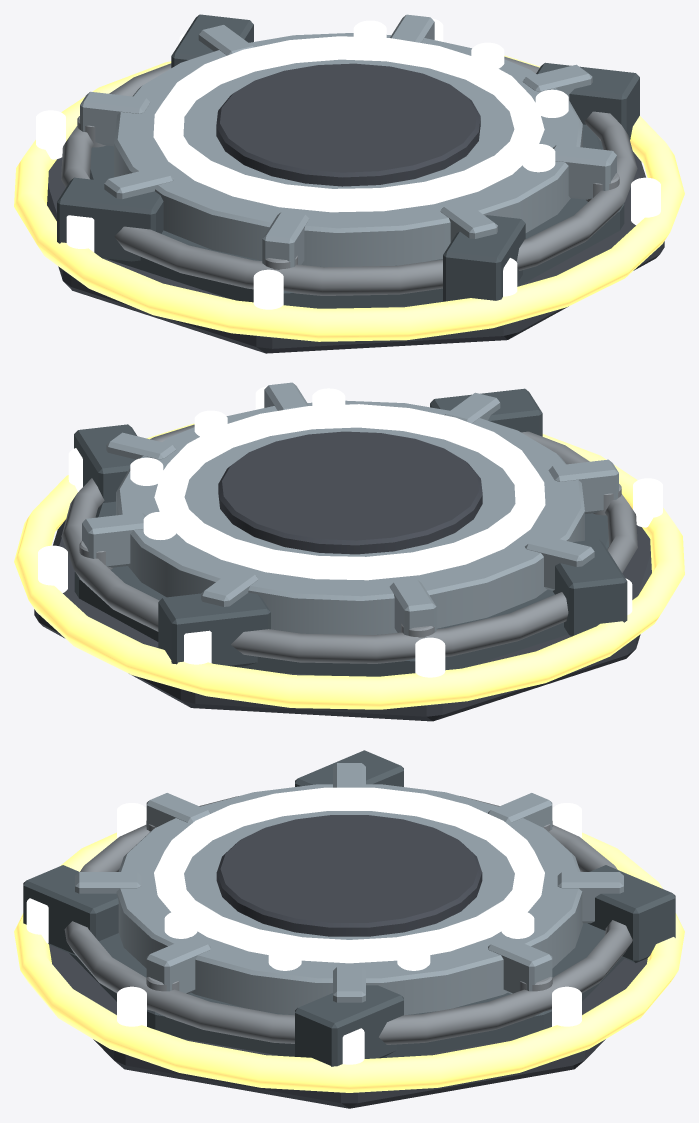
Rendered from rail_base_l4.glb.
3 renders of one model, top to bottom at view 1: azimuth 30°, elevation 25°; view 2: azimuth 150°, elevation 25°; view 3: azimuth 270°, elevation 25°, orthographic.
Parts seen in each view (by area): view 1: Cylinder.002, Torus.002, Cylinder.003, Torus.001, Torus, Cylinder, Cylinder.001, Cube.010, Cube.011, Cube.008, Cube.007, Cube.003 (+15 smaller); view 2: Cylinder.002, Torus.002, Cylinder.003, Torus.001, Torus, Cylinder, Cylinder.001, Cube.009, Cube.010, Cube.008, Cube.001, Cube.011 (+16 smaller); view 3: Cylinder.002, Torus.002, Cylinder.003, Torus.001, Torus, Cylinder, Cylinder.001, Cube.008, Cube.011, Cube.009, Cube.001, Cube.007 (+17 smaller).
Part boxes in pixels (<box>): Cylinder.002: <box>114,33,582,267</box>; Torus.002: <box>14,55,684,341</box>; Cylinder.003: <box>216,63,480,186</box>; Torus.001: <box>153,36,544,212</box>; Torus: <box>61,56,637,295</box>; Cylinder: <box>47,152,664,353</box>; Cylinder.001: <box>90,124,624,308</box>; Cube.010: <box>57,177,163,261</box>; Cube.011: <box>443,215,525,301</box>; Cube.008: <box>536,62,639,139</box>; Cube.007: <box>553,144,616,199</box>; Cube.003: <box>80,91,150,146</box>; Cylinder.002: <box>116,400,584,634</box>; Torus.002: <box>14,423,684,709</box>; Cylinder.003: <box>218,431,482,554</box>; Torus.001: <box>154,404,545,580</box>; Torus: <box>61,424,637,663</box>; Cylinder: <box>34,519,651,721</box>; Cylinder.001: <box>74,501,608,676</box>; Cube.009: <box>158,592,270,666</box>; Cube.010: <box>553,539,627,636</box>; Cube.008: <box>74,424,137,502</box>; Cube.001: <box>82,512,145,567</box>; Cube.011: <box>430,388,542,436</box>; Cylinder.002: <box>116,784,583,1015</box>; Torus.002: <box>14,832,684,1092</box>; Cylinder.003: <box>216,815,482,936</box>; Torus.001: <box>154,787,544,963</box>; Torus: <box>64,796,632,1044</box>; Cylinder: <box>49,945,647,1108</box>; Cylinder.001: <box>69,923,624,1057</box>; Cube.008: <box>295,985,403,1066</box>; Cube.011: <box>23,865,118,956</box>; Cube.009: <box>588,865,675,962</box>; Cube.001: <box>488,937,552,993</box>; Cube.007: <box>146,937,210,993</box>.
Size of the model in its own units: 2.22 by 0.4 by 2.22.
